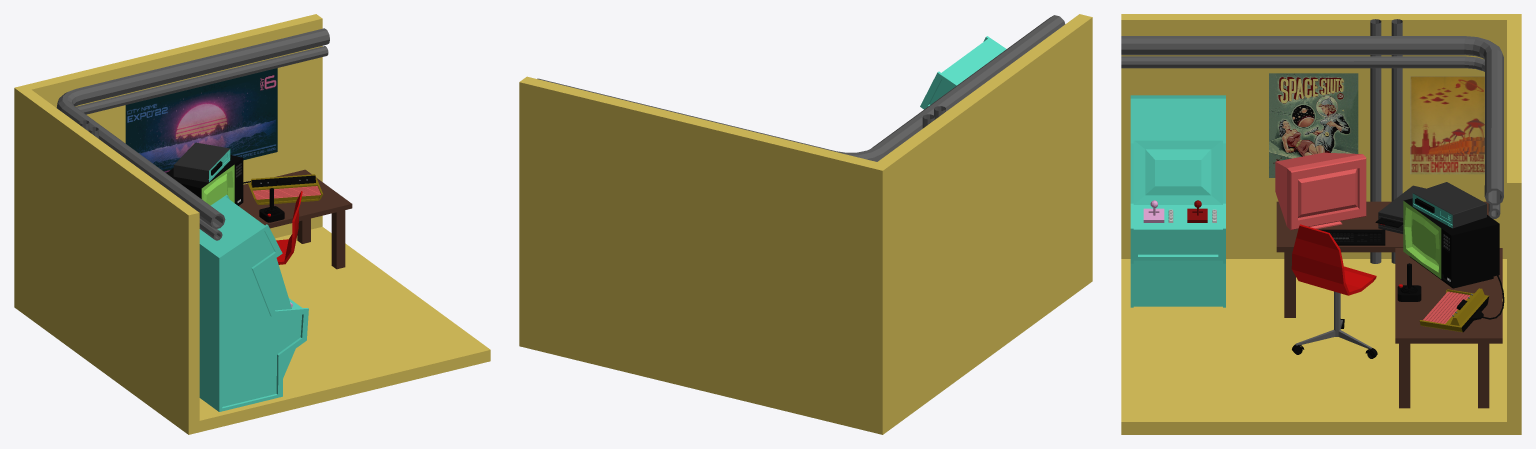
File: CuartoArcade.obj
3 renders of one model, left to right at view 1: azimuth 30°, elevation 25°; view 2: azimuth 150°, elevation 25°; view 3: azimuth 270°, elevation 25°, orthographic. The views are drawn at different scales.
Parts seen in each view (by area): view 1: Room_Plane, Jatekgep_Plane_003, 80s_Retro_Sci_Fi_FPoster_and_lyer_Templates_for_Adobe_Photoshop, pipestop_Plane_001, Table_Plane_007, VHS_Plane_016, Labak_Plane_009, Plane_010_Plane_012, Plane_001_Plane_004, Plane_Plane_015, Plane_003_Plane_013, TV_Plane_010 (+1 smaller); view 2: Room_Plane, pipestop_Plane_001, Jatekgep_Plane_003; view 3: Room_Plane, Jatekgep_Plane_003, pipestop_Plane_001, space_sluts_vintage_sci_fi_comic_book_cover_long_shot, robotlegion, Monitor_Plane_029, Table_Plane_007, Arcade_game_machine_Plane_002, Plane_Plane_015, TV_Plane_010, Table_002_Plane_020, Plane_010_Plane_012 (+11 smaller).
Boxes of the visible parts, bbox=[...] form: Room_Plane: bbox=[14, 14, 490, 434]; Jatekgep_Plane_003: bbox=[199, 194, 308, 411]; 80s_Retro_Sci_Fi_FPoster_and_lyer_Templates_for_Adobe_Photoshop: bbox=[125, 68, 277, 172]; pipestop_Plane_001: bbox=[56, 28, 329, 240]; Table_Plane_007: bbox=[239, 169, 352, 228]; VHS_Plane_016: bbox=[173, 142, 229, 182]; Labak_Plane_009: bbox=[297, 210, 345, 269]; Plane_010_Plane_012: bbox=[201, 164, 234, 205]; Plane_001_Plane_004: bbox=[248, 174, 323, 204]; Plane_Plane_015: bbox=[276, 191, 302, 264]; Plane_003_Plane_013: bbox=[253, 186, 320, 199]; TV_Plane_010: bbox=[166, 155, 242, 198]; Room_Plane: bbox=[519, 14, 1092, 434]; pipestop_Plane_001: bbox=[537, 15, 1065, 161]; Jatekgep_Plane_003: bbox=[920, 36, 1006, 109]; Room_Plane: bbox=[1121, 14, 1521, 434]; Jatekgep_Plane_003: bbox=[1130, 95, 1225, 307]; pipestop_Plane_001: bbox=[1121, 36, 1503, 218]; space_sluts_vintage_sci_fi_comic_book_cover_long_shot: bbox=[1269, 73, 1358, 177]; robotlegion: bbox=[1410, 76, 1484, 174]; Monitor_Plane_029: bbox=[1275, 152, 1366, 230]; Table_Plane_007: bbox=[1395, 248, 1502, 343]; Arcade_game_machine_Plane_002: bbox=[1370, 19, 1402, 263]; Plane_Plane_015: bbox=[1291, 224, 1376, 295]; TV_Plane_010: bbox=[1403, 198, 1499, 288]; Table_002_Plane_020: bbox=[1276, 201, 1488, 252]; Plane_010_Plane_012: bbox=[1403, 201, 1441, 278].
Size of what is drawn, in the model's own units: 8.3 by 5.8 by 8.3.
Materials: 16 (3 with a texture image).
